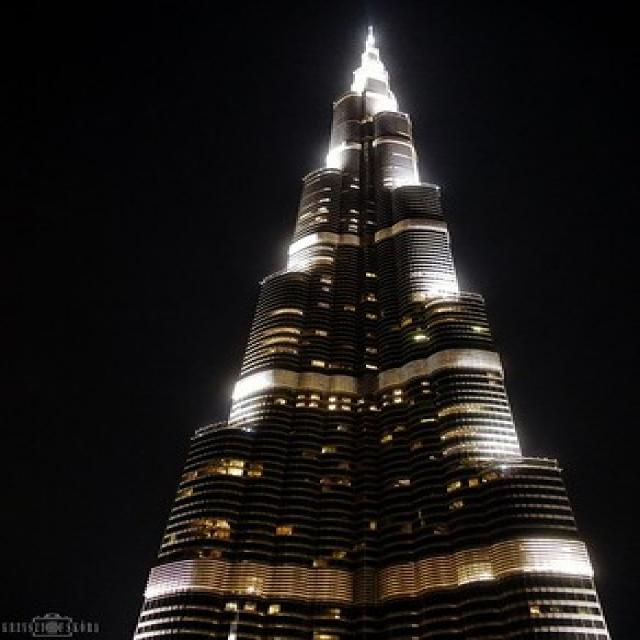Normal_building: (128, 16, 617, 640)
